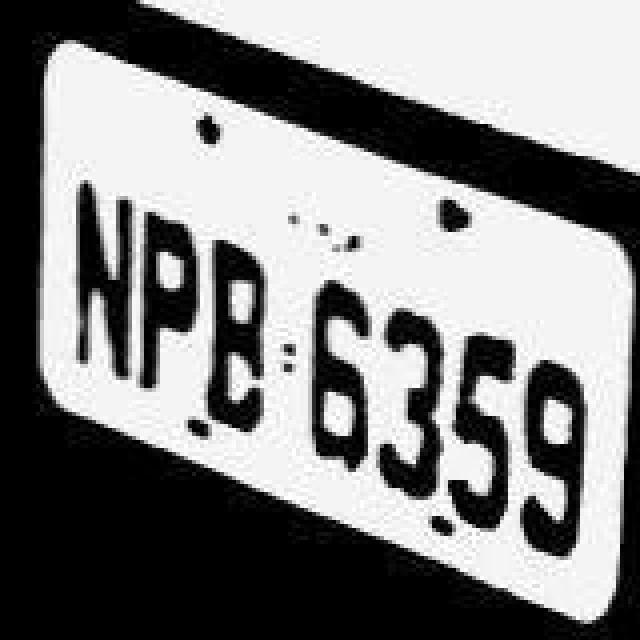3: (374, 254, 446, 506)
5: (446, 268, 518, 532)
6: (296, 260, 372, 492)
9: (508, 286, 584, 570)
B: (196, 220, 272, 452)
N: (60, 118, 136, 394)
P: (136, 190, 204, 402)
